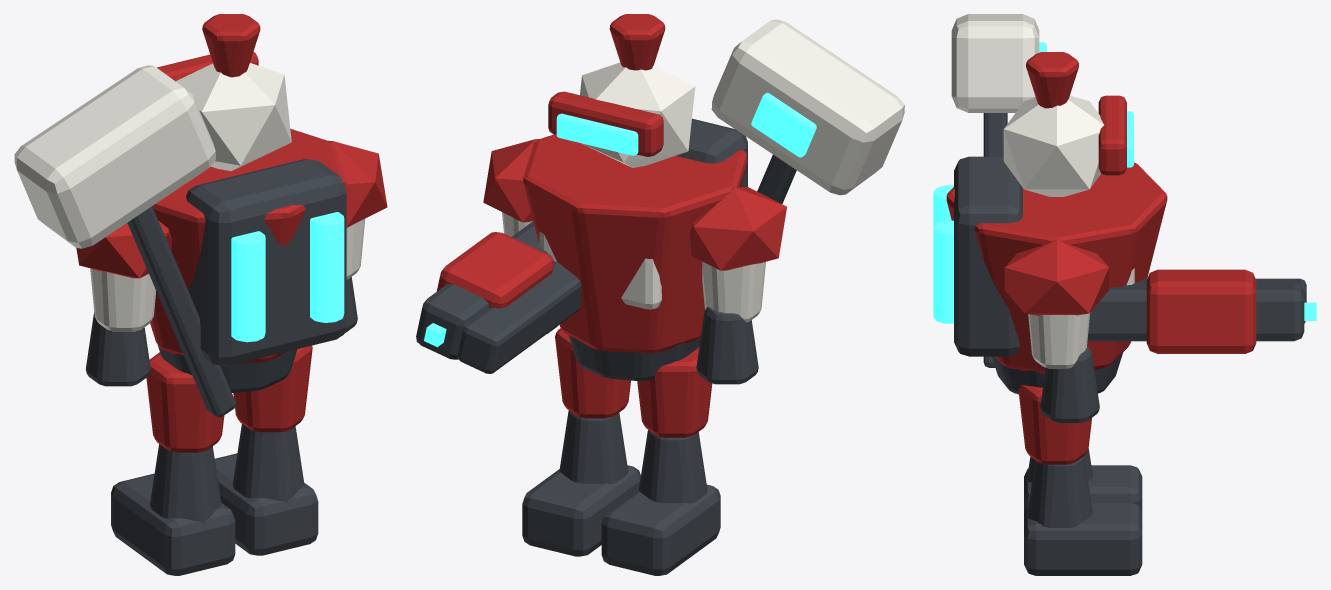
Rendered from hero_scott.glb.
3 views of the same model, side by side, from view 1: azimuth 30°, elevation 25°; view 2: azimuth 150°, elevation 25°; view 3: azimuth 270°, elevation 25° (orthographic). The views are drawn at different scales.
Visible parts, largest first — view 1: hammer_head, backpack, helmet, torso, boot, hammer_haft, boot.001, thigh_armor, greave, greave.001, thigh_armor.001, power_cell (+10 smaller); view 2: torso, hammer_head, boot, second_barrel, boot.001, helmet, pauldron, rifle_shroud, thigh_armor, greave, greave.001, forearm (+12 smaller); view 3: torso, backpack, rifle_shroud, helmet, hammer_head, boot.001, pauldron.001, rifle_body, greave.001, thigh_armor.001, forearm.001, upper_arm.001 (+7 smaller).
Boxes of the visible parts, x1,y1,x2,y2 form: hammer_head: (14, 65, 215, 248); backpack: (186, 159, 346, 365); helmet: (176, 63, 291, 171); torso: (150, 128, 345, 363); boot: (111, 473, 235, 575); hammer_haft: (127, 206, 235, 417); boot.001: (214, 453, 318, 555); thigh_armor: (146, 352, 224, 452); greave: (149, 444, 221, 523); greave.001: (232, 424, 304, 502); thigh_armor.001: (233, 345, 312, 432); power_cell: (231, 231, 265, 342); torso: (523, 134, 747, 353); hammer_head: (711, 19, 904, 195); boot: (601, 484, 720, 575); second_barrel: (457, 261, 581, 373); boot.001: (522, 465, 640, 556); helmet: (580, 62, 695, 167); pauldron: (689, 187, 786, 270); rifle_shroud: (436, 232, 554, 308); thigh_armor: (637, 346, 712, 437); greave: (638, 430, 707, 503); greave.001: (559, 410, 628, 483); forearm: (696, 307, 758, 384); torso: (946, 162, 1167, 374); backpack: (954, 156, 1022, 356); rifle_shroud: (1146, 269, 1256, 353); helmet: (1003, 95, 1103, 196); hammer_head: (951, 14, 1039, 112); boot.001: (1024, 502, 1142, 575); pauldron.001: (1004, 239, 1108, 315); rifle_body: (1087, 282, 1304, 341); greave.001: (1026, 456, 1092, 527); thigh_armor.001: (1018, 385, 1091, 464); forearm.001: (1040, 346, 1099, 422); upper_arm.001: (1028, 312, 1090, 368).
Bounding box in the file's own units: 1.84 × 2.45 × 1.75.
